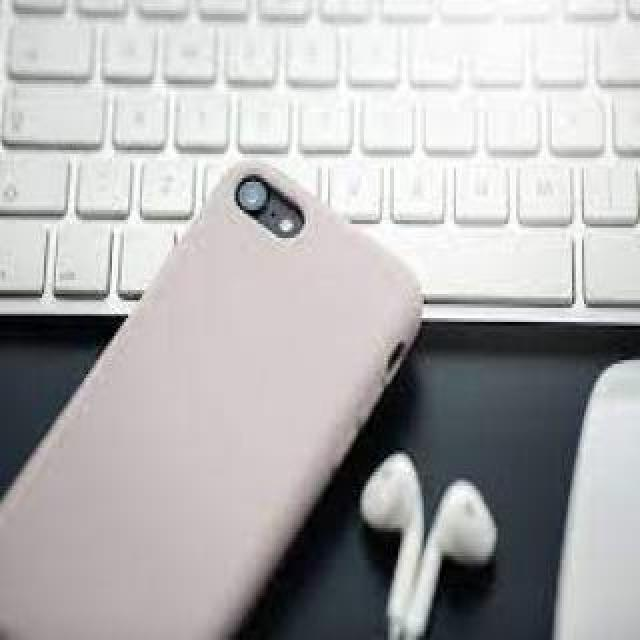earphone: (352, 446, 518, 640)
smart phone: (0, 153, 342, 627)
